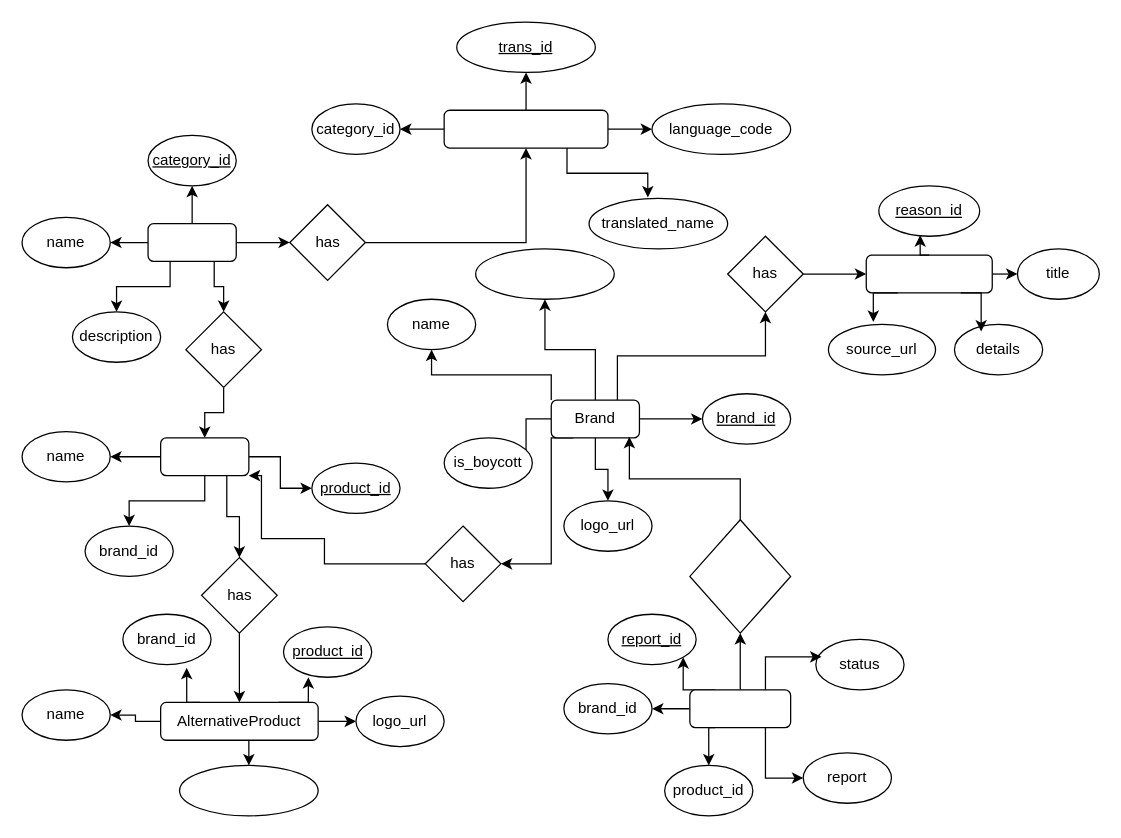
This 1121x838 diagram has some shape labels left out. Here are the shapes that lost their labels. From the top down, the centre of each, then its label:
At (x=525, y=128): "TranslatedCategory".
At (x=191, y=241): "Category".
At (x=544, y=273): "country_of_orign".
At (x=928, y=273): "BoycottReasons".
At (x=204, y=456): "Product".
At (x=740, y=575): "associated with".
At (x=740, y=708): "UserReport".
At (x=248, y=790): "country_of_origin".
